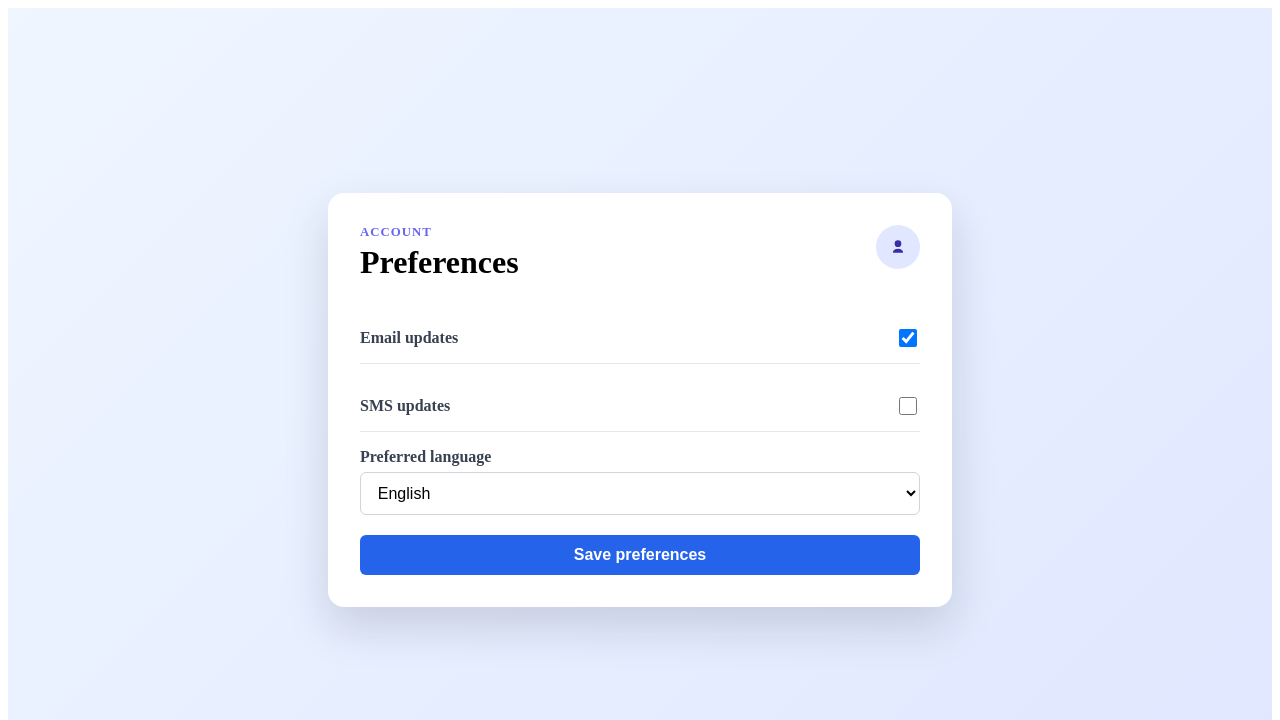
it: AccountPreferencesPage › shows a success message after saving preferences
This screenshot has width=1280, height=720.
Click the button "Save preferences". click: (640, 555)
box: [360,535,920,576]
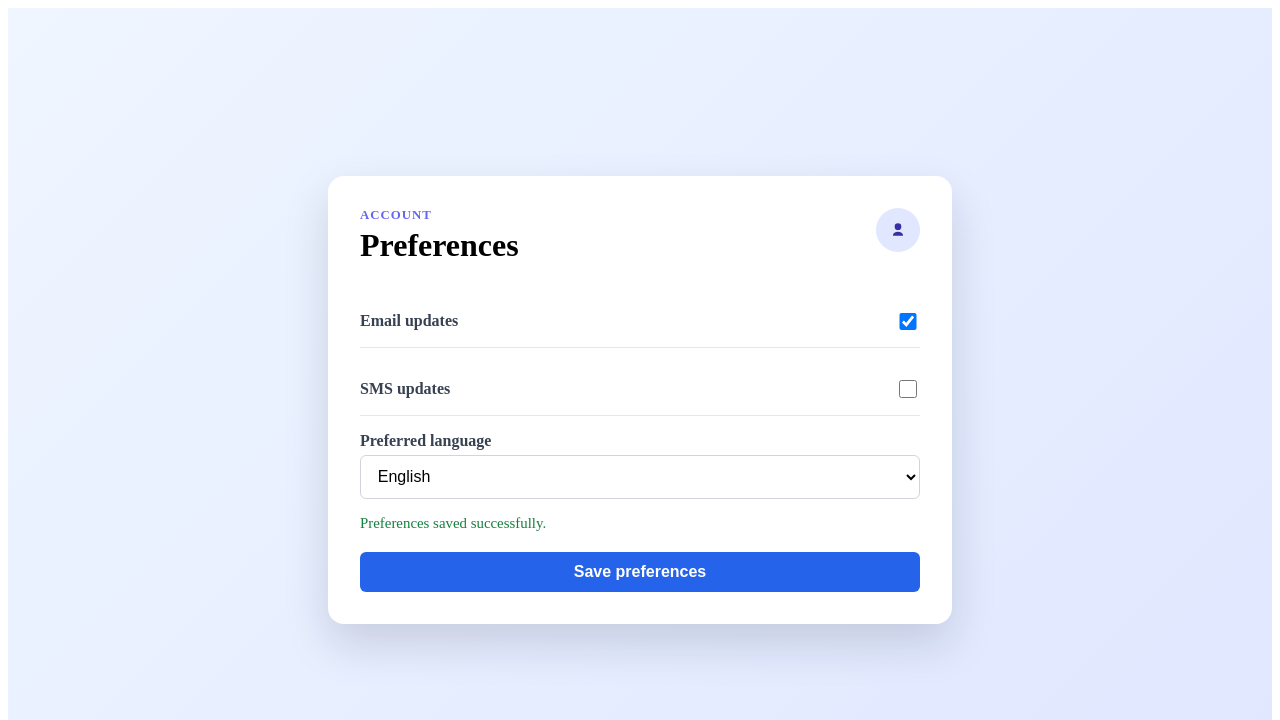
Result: the text "Preferences saved successfully." is shown at [360,515,546,531]
